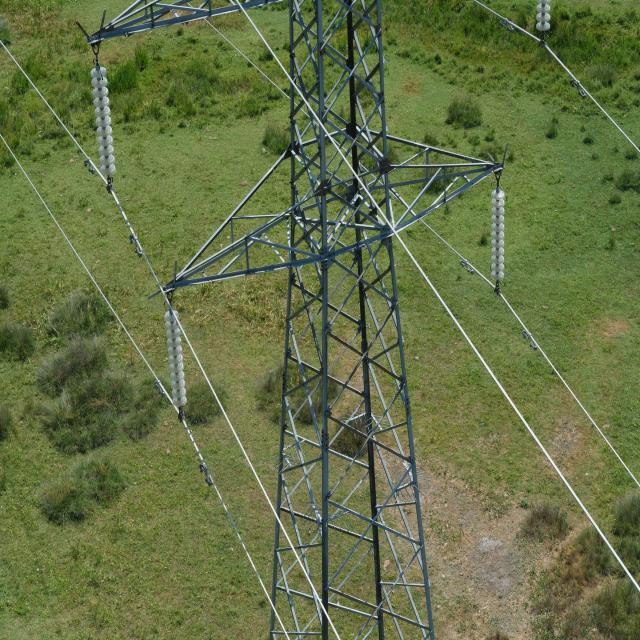direk: (213, 10, 463, 640)
